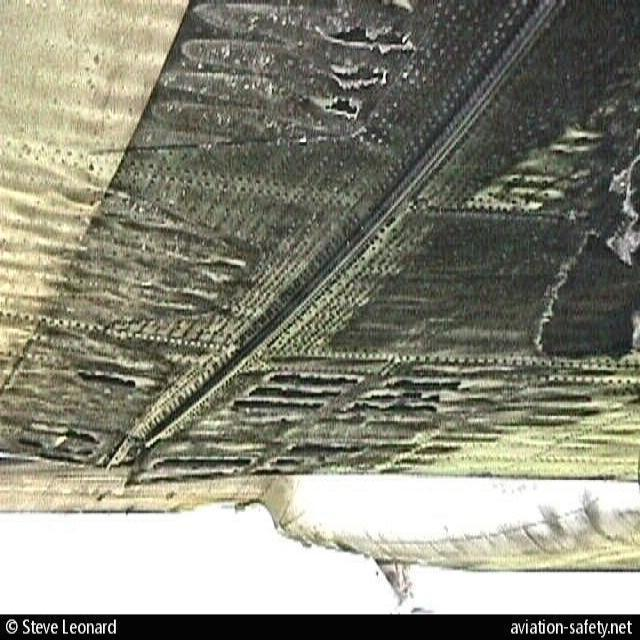crack: (304, 21, 425, 124)
